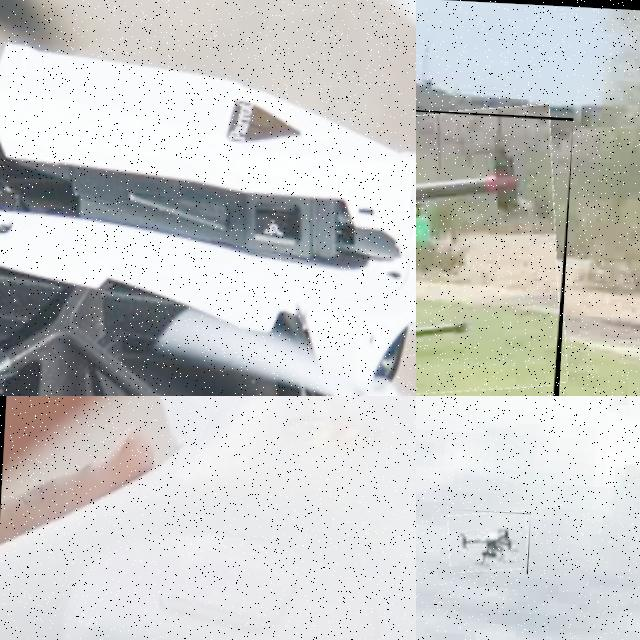drone: (0, 0, 416, 396), (0, 396, 416, 640), (416, 96, 573, 396), (447, 510, 531, 574)
